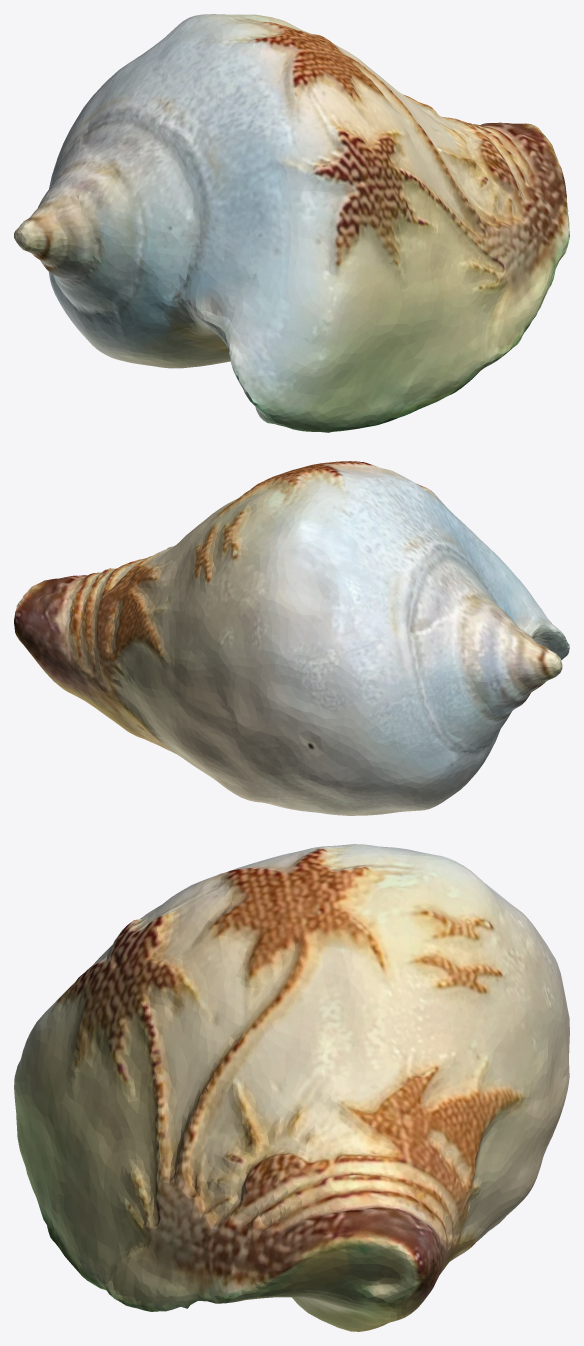
The model's file is DogConch.glb.
The picture shows the model from 3 angles, top to bottom: view 1: azimuth 30°, elevation 25°; view 2: azimuth 150°, elevation 25°; view 3: azimuth 270°, elevation 25°; orthographic projection. The views are drawn at different scales.
Bounding box in the file's own units: 0.0638 × 0.0361 × 0.0469.
Materials: 1 (1 with a texture image).
